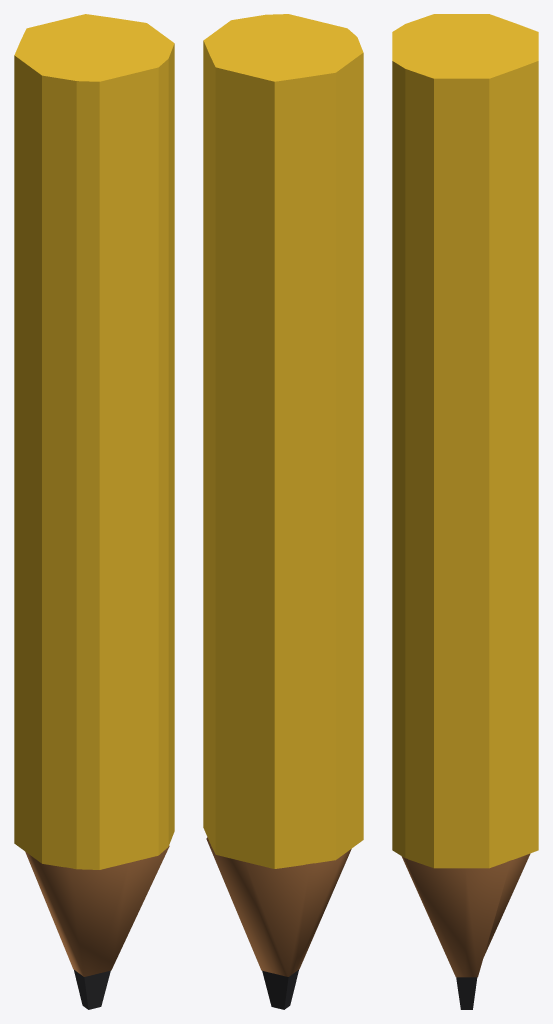
The model's file is lapiz.glb.
3 views of the same model, side by side, from view 1: azimuth 30°, elevation 25°; view 2: azimuth 150°, elevation 25°; view 3: azimuth 270°, elevation 25° (orthographic).
Visible parts, largest first — view 1: Lapiz; view 2: Lapiz; view 3: Lapiz.
Boxes of the visible parts, left/top/right/bottom form: Lapiz: left=14, top=14, right=174, bottom=1009; Lapiz: left=203, top=14, right=363, bottom=1009; Lapiz: left=392, top=14, right=538, bottom=1009.
Size of the model in its own units: 2.1 by 14.49 by 2.
